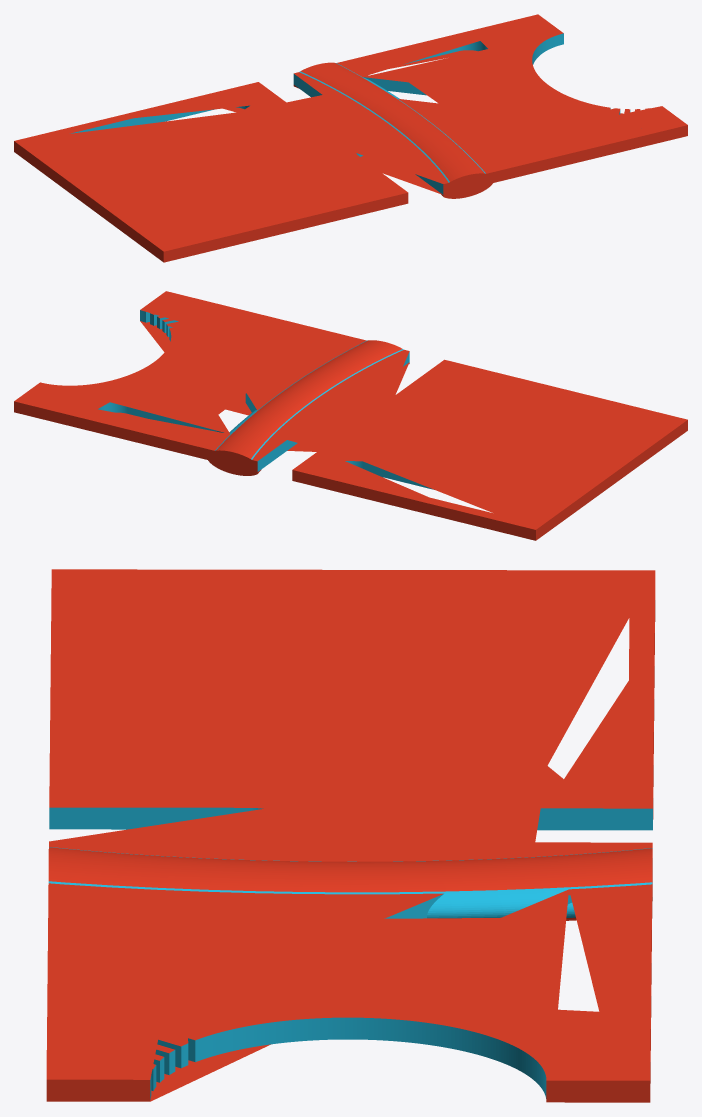
The model's file is darkness_base.fbx.
3 renders of one model, top to bottom at view 1: azimuth 30°, elevation 25°; view 2: azimuth 150°, elevation 25°; view 3: azimuth 270°, elevation 25°, orthographic. The views are drawn at different scales.
Visible parts, largest first — view 1: Cube; view 2: Cube; view 3: Cube.
Boxes of the visible parts, x1=… form: Cube: x1=14, y1=14, x2=687, y2=262; Cube: x1=14, y1=291, x2=687, y2=540; Cube: x1=46, y1=569, x2=655, y2=1102.
Bounding box in the file's own units: 60.13 × 2.4 × 30.26.
